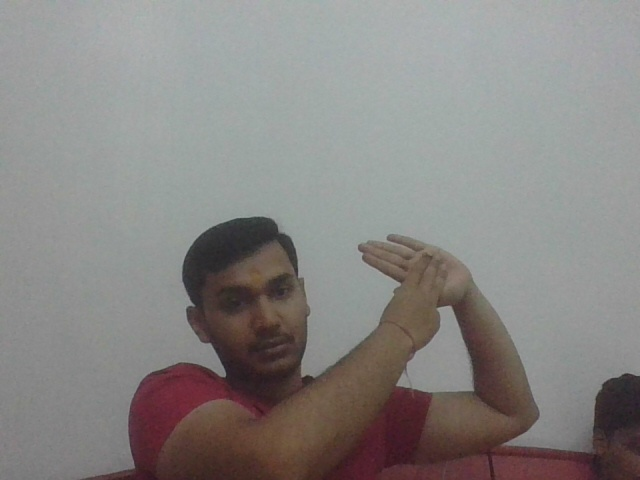M: (354, 232, 472, 340)
